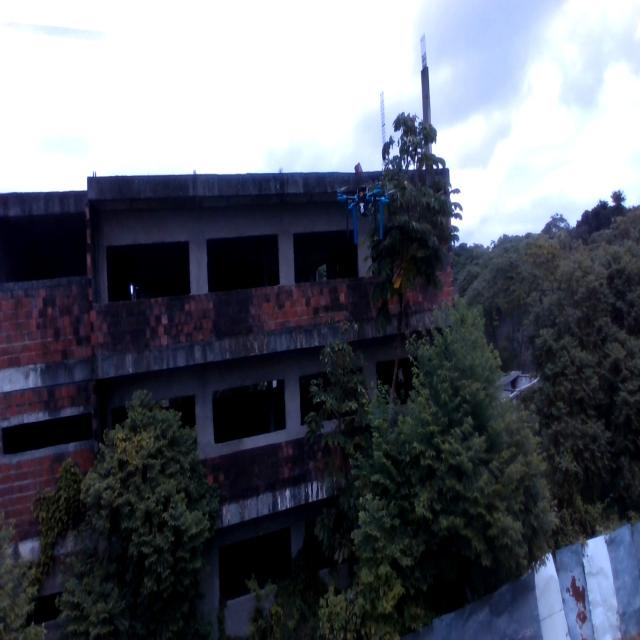-uav-: (330, 167, 405, 249)
